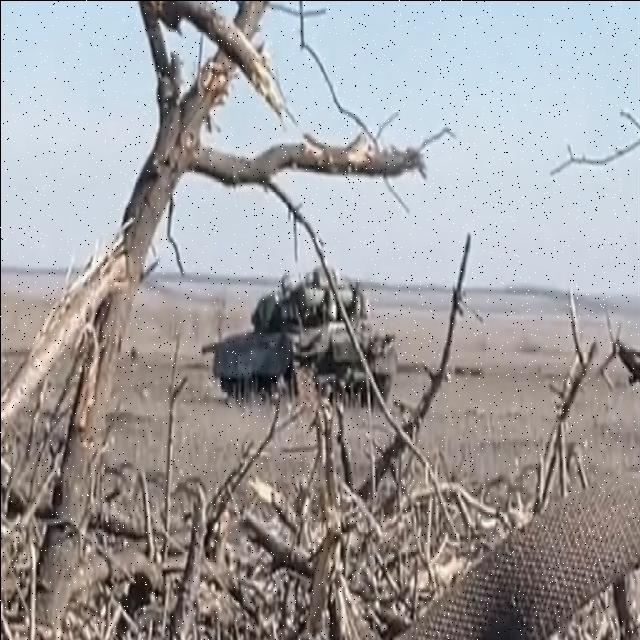TANK: (198, 258, 398, 416)
